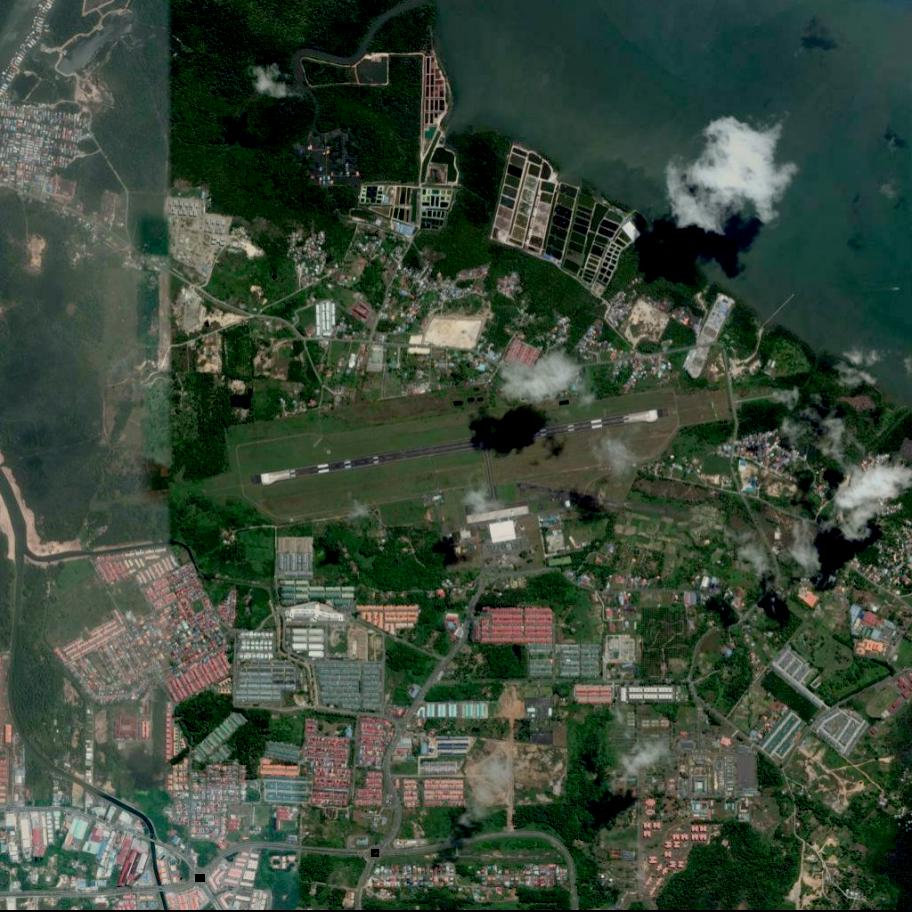storage-tank: (195, 873, 205, 882), (372, 849, 380, 857)
